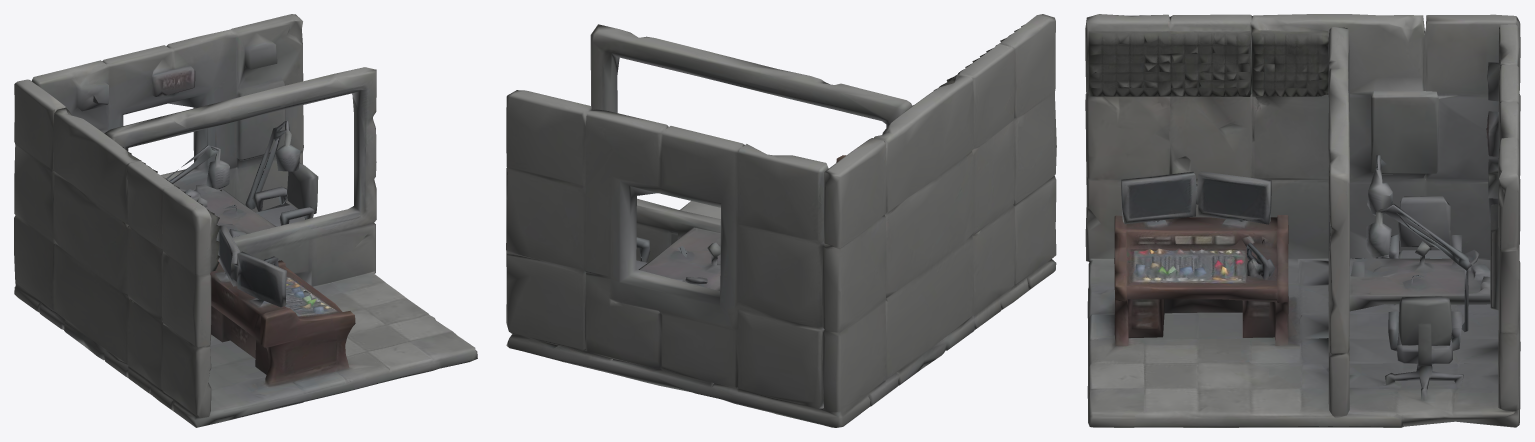
The model's file is radio_station_interior.glb.
3 views of the same model, side by side, from view 1: azimuth 30°, elevation 25°; view 2: azimuth 150°, elevation 25°; view 3: azimuth 270°, elevation 25° (orthographic). The views are drawn at different scales.
Visible parts, largest first — view 1: tripo_node_e06fe8a8-d0fd-4d62-95a0-b581ed5962f6; view 2: tripo_node_e06fe8a8-d0fd-4d62-95a0-b581ed5962f6; view 3: tripo_node_e06fe8a8-d0fd-4d62-95a0-b581ed5962f6.
Part boxes in pixels (x1,y1,x2,y2): tripo_node_e06fe8a8-d0fd-4d62-95a0-b581ed5962f6: [14, 14, 477, 427]; tripo_node_e06fe8a8-d0fd-4d62-95a0-b581ed5962f6: [506, 14, 1056, 427]; tripo_node_e06fe8a8-d0fd-4d62-95a0-b581ed5962f6: [1085, 14, 1520, 427].
Size of the model in its own units: 0.8884 by 0.6473 by 1.
1 material, 1 textured.
